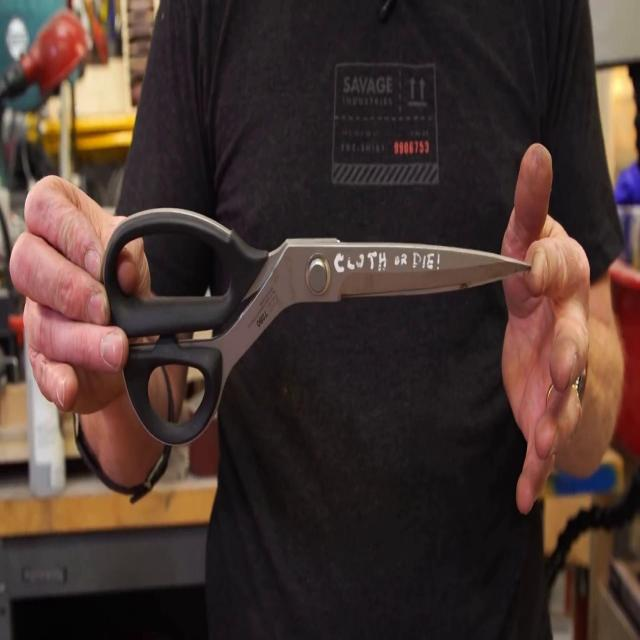scissor: (104, 206, 532, 446)
